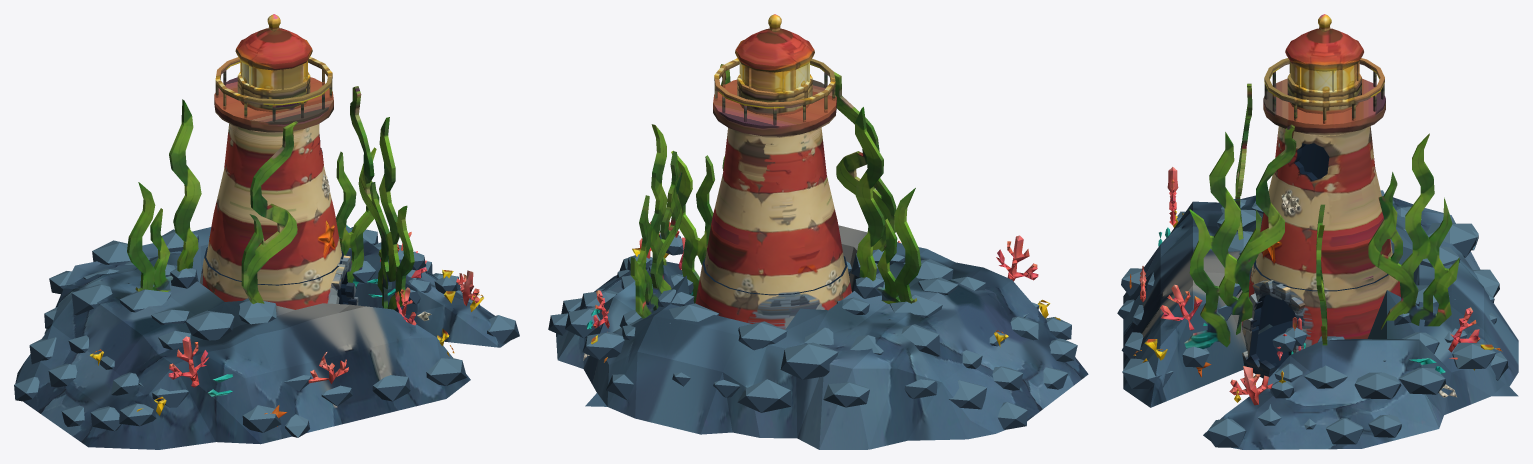
Rendered from MB_LM_Lighthouse_v4.fbx.
3 views of the same model, side by side, from view 1: azimuth 30°, elevation 25°; view 2: azimuth 150°, elevation 25°; view 3: azimuth 270°, elevation 25° (orthographic). The views are drawn at different scales.
Visible parts, largest first — view 1: Stone, Kelp, StoneTop, Red, StoneSide, Cream, Deck, BaseStone, CoralPink, Gold, Glass, DoorStone (+2 smaller); view 2: Stone, Kelp, StoneTop, Red, Cream, StoneSide, Deck, BaseStone, Gold, CoralPink, Glass; view 3: Stone, Kelp, Red, StoneTop, Cream, StoneSide, BaseStone, Deck, Dark, CoralPink, Gold, DoorStone (+2 smaller).
Boxes of the visible parts, x1,y1,x2,y2 form: Stone: [15, 226, 509, 449]; Kelp: [127, 86, 414, 312]; StoneTop: [14, 227, 515, 437]; Red: [209, 28, 339, 267]; StoneSide: [14, 232, 519, 437]; Cream: [206, 123, 341, 284]; Deck: [214, 60, 333, 133]; BaseStone: [199, 255, 346, 309]; CoralPink: [168, 232, 479, 387]; Gold: [215, 14, 332, 121]; Glass: [241, 61, 305, 89]; DoorStone: [329, 255, 358, 305]; Stone: [556, 225, 1088, 449]; Kelp: [630, 64, 921, 318]; StoneTop: [551, 234, 1077, 418]; Red: [707, 28, 842, 276]; Cream: [704, 127, 845, 294]; StoneSide: [548, 235, 1077, 429]; Deck: [713, 62, 836, 137]; BaseStone: [695, 263, 851, 329]; Gold: [714, 14, 835, 125]; CoralPink: [593, 221, 1038, 328]; Glass: [740, 63, 807, 92]; Stone: [1123, 195, 1518, 449]; Kelp: [1184, 83, 1459, 348]; Red: [1260, 28, 1390, 273]; StoneTop: [1120, 190, 1507, 436]; Cream: [1256, 126, 1392, 290]; StoneSide: [1117, 208, 1508, 447]; BaseStone: [1242, 264, 1400, 378]; Deck: [1263, 61, 1385, 136]; Dark: [1249, 143, 1388, 368]; CoralPink: [1139, 167, 1480, 405]; Gold: [1264, 14, 1384, 123]; DoorStone: [1242, 280, 1305, 377].
Bounding box in the file's own units: 21209 × 15012 × 16139.
Materials: 1 (1 with a texture image).
